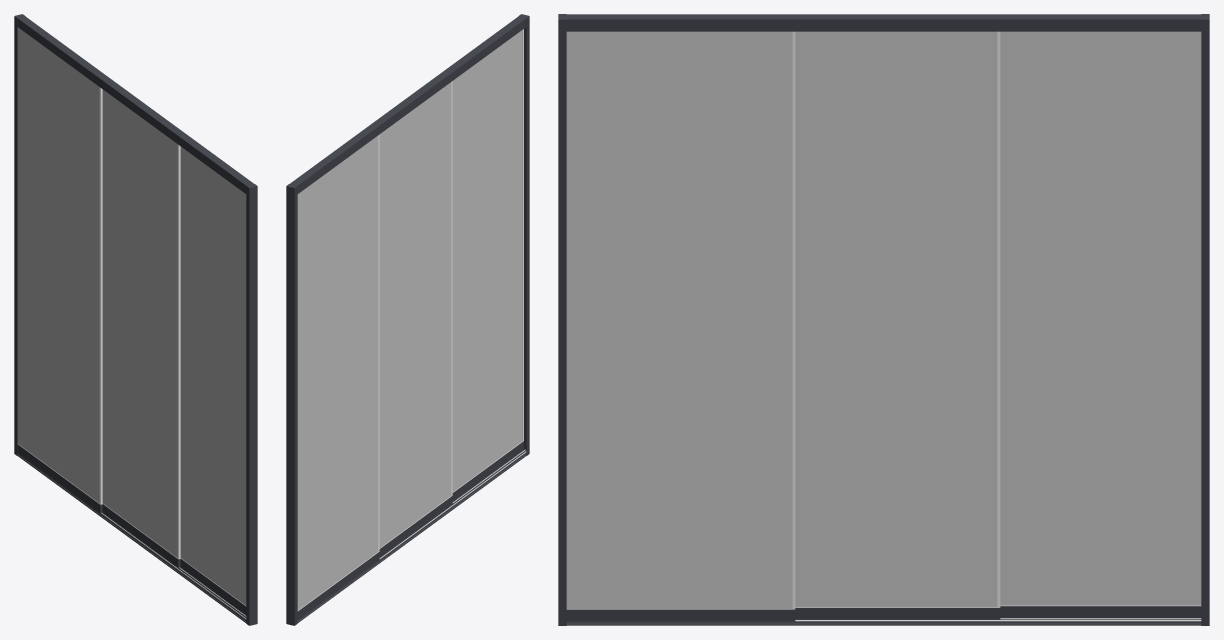
Rendered from nebbiolo_sliding_door_right_600_250.glb.
3 views of the same model, side by side, from view 1: azimuth 30°, elevation 25°; view 2: azimuth 150°, elevation 25°; view 3: azimuth 270°, elevation 25° (orthographic). The views are drawn at different scales.
Parts seen in each view (by area): view 1: sliding_door_right_600_250; view 2: sliding_door_right_600_250; view 3: sliding_door_right_600_250.
Boxes of the visible parts, x1,y1,x2,y2 form: sliding_door_right_600_250: [14, 14, 257, 625]; sliding_door_right_600_250: [286, 14, 529, 625]; sliding_door_right_600_250: [558, 14, 1209, 625].
Bounding box in the file's own units: 0.0501 × 2.5 × 2.44.
Materials: 3 (1 with a texture image).
